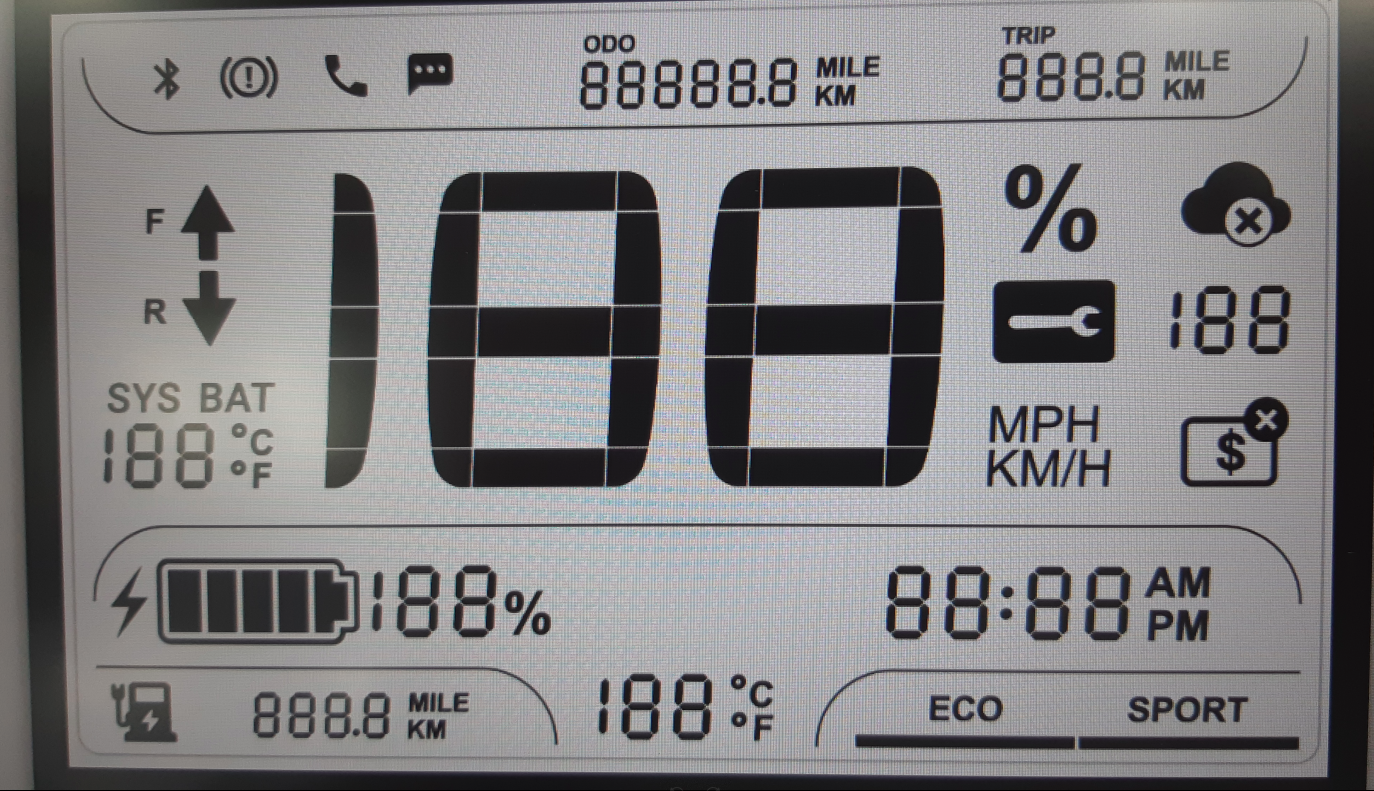bluetooth_on: (146, 51, 188, 108)
braking_on: (215, 50, 284, 105)
calling_on: (314, 43, 376, 104)
connection_lost: (1174, 156, 1296, 250)
error_code: (983, 275, 1119, 367)
low_battery: (102, 674, 186, 747)
sms_on: (399, 46, 461, 101)
vin_id: (1174, 393, 1293, 492)
